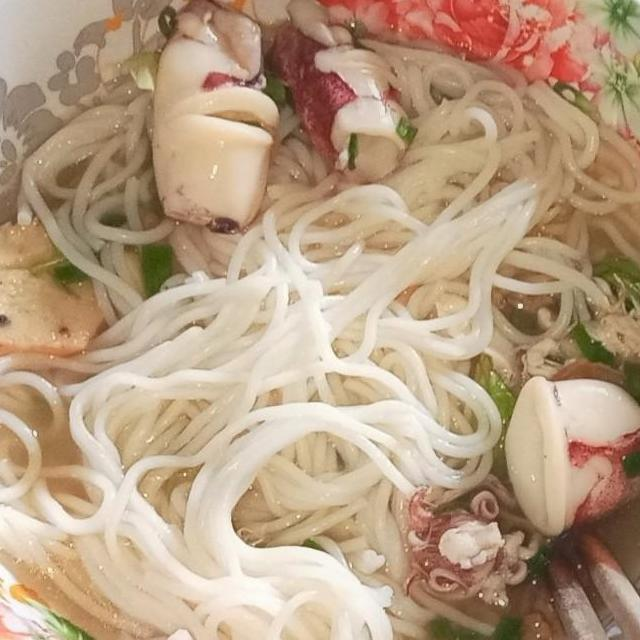bun: (0, 340, 487, 640), (88, 210, 514, 497), (387, 30, 640, 318), (0, 70, 203, 330)
muc: (141, 0, 285, 238), (258, 0, 417, 188), (497, 375, 640, 541), (398, 474, 548, 618)
